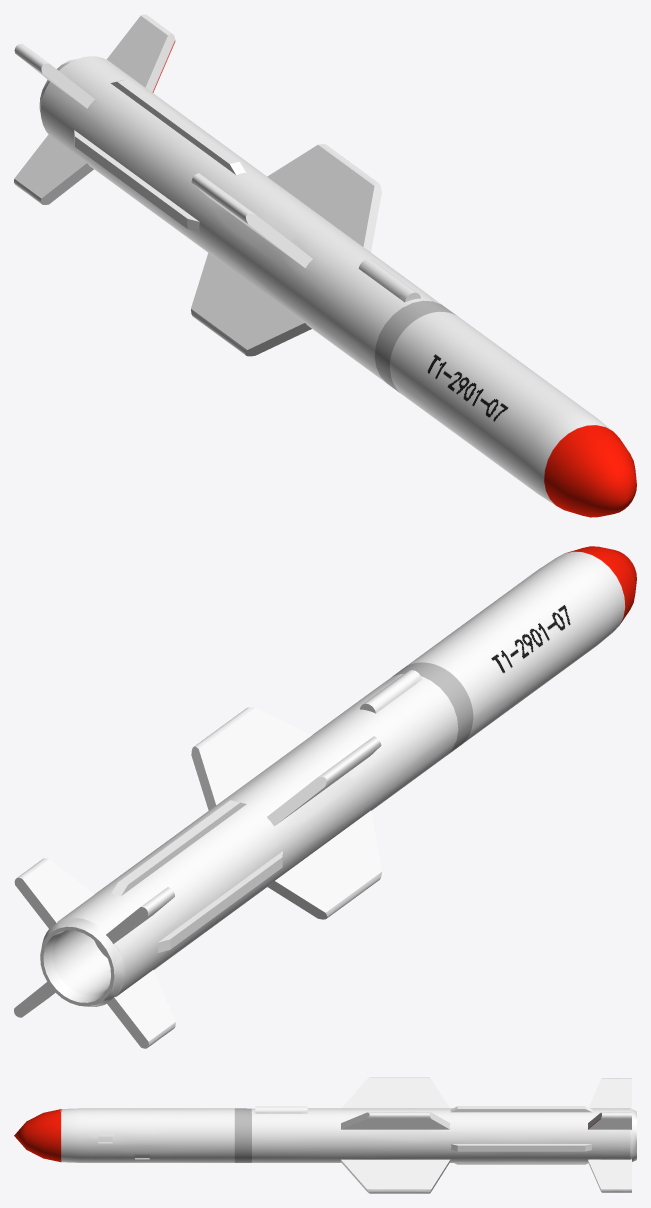
Rendered from daodan.FBX.
The picture shows the model from 3 angles, top to bottom: view 1: azimuth 30°, elevation 25°; view 2: azimuth 150°, elevation 25°; view 3: azimuth 270°, elevation 25°; orthographic projection. The views are drawn at different scales.
Parts seen in each view (by area): view 1: daodan; view 2: daodan; view 3: daodan.
Boxes of the visible parts, x1,y1,x2,y2 form: daodan: [14, 14, 636, 517]; daodan: [14, 546, 636, 1048]; daodan: [14, 1077, 636, 1193].
Bounding box in the file's own units: 12.93 × 12.93 × 90.4.
1 material, 1 textured.
